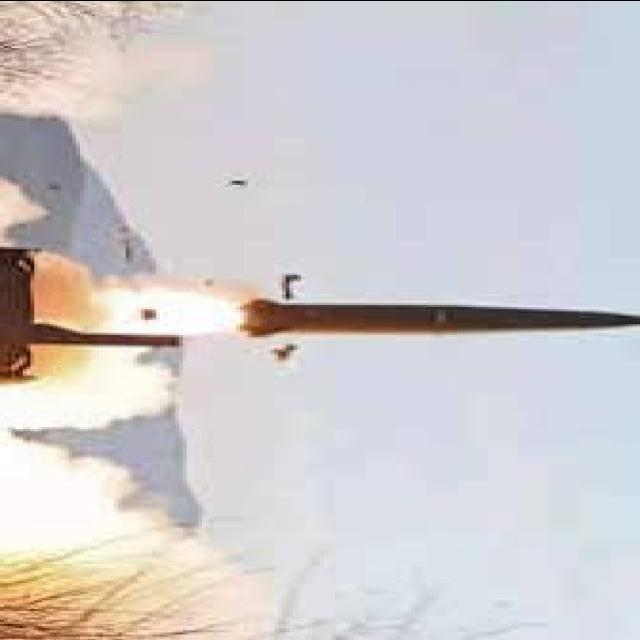missile: (215, 282, 640, 355)
